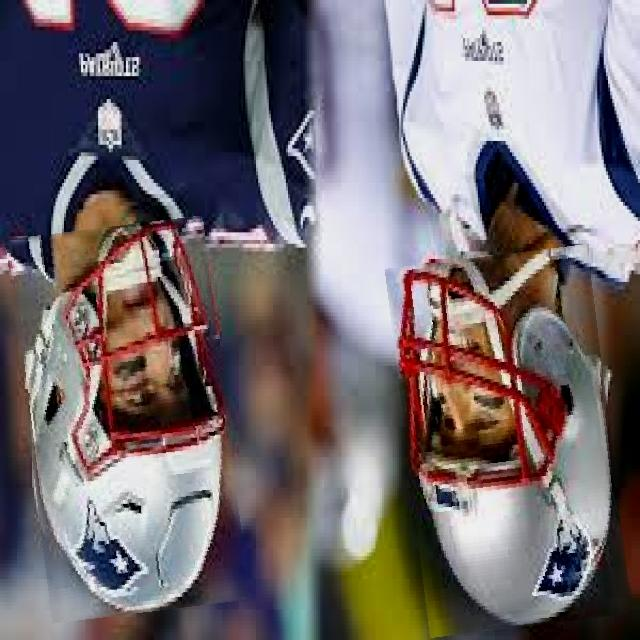helmet: (17, 221, 238, 618), (396, 250, 622, 632)
